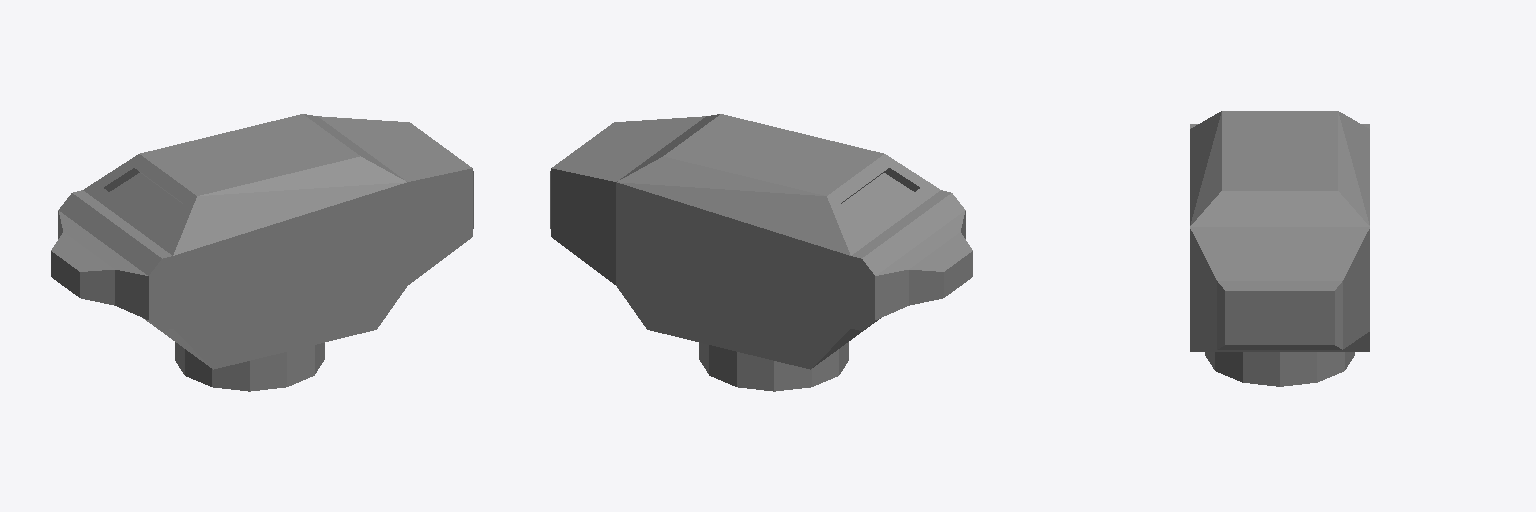
File: Bashka.obj
3 renders of one model, left to right at view 1: azimuth 30°, elevation 25°; view 2: azimuth 150°, elevation 25°; view 3: azimuth 270°, elevation 25°, orthographic.
Visible parts, largest first — view 1: Bashka; view 2: Bashka; view 3: Bashka.
Boxes of the visible parts, x1,y1,x2,y2 form: Bashka: [51, 114, 473, 391]; Bashka: [550, 114, 972, 391]; Bashka: [1190, 111, 1369, 386].
Bounding box in the file's own units: 46.11 × 23.68 × 18.9.